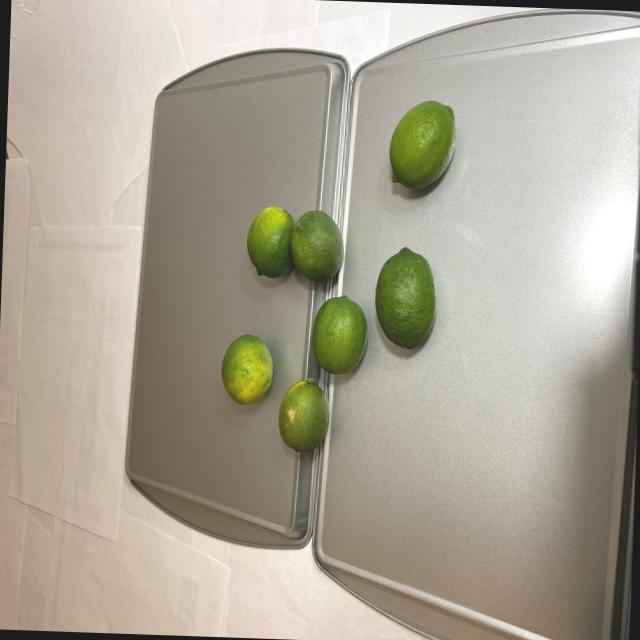lemon: (214, 90, 466, 458)
